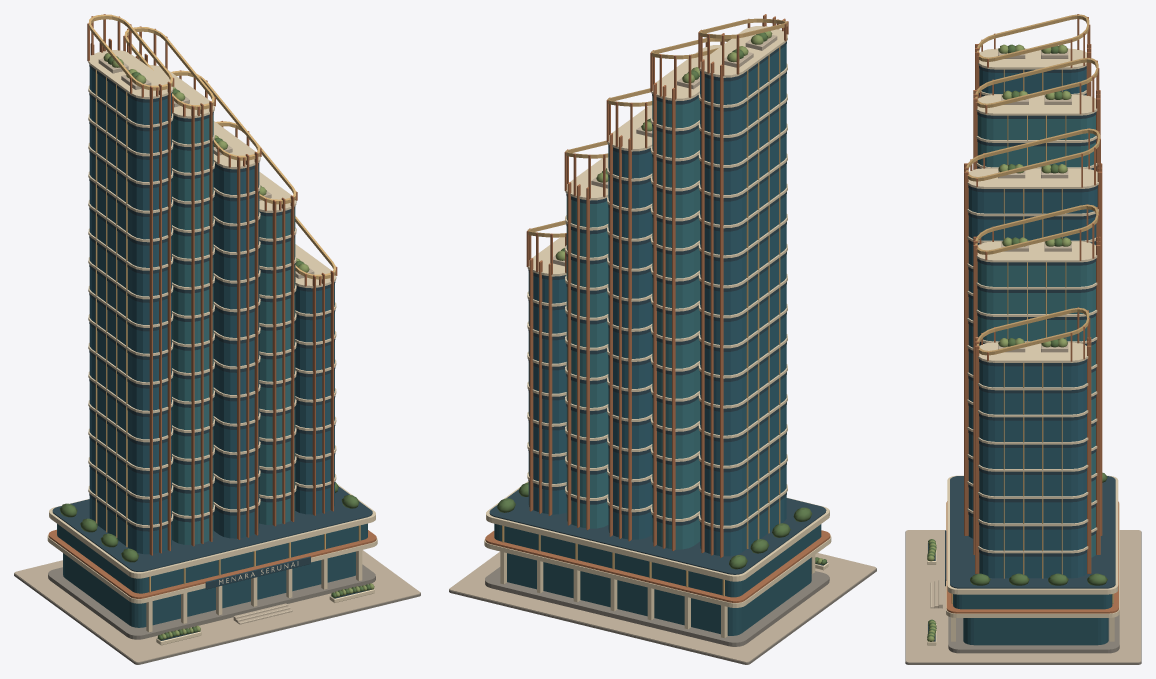
3 renders of one model, left to right at view 1: azimuth 30°, elevation 25°; view 2: azimuth 150°, elevation 25°; view 3: azimuth 270°, elevation 25°, orthographic. The views are drawn at different scales.
Visible parts, largest first — view 1: Reed Office Bays, Arcaded Banking Podium, Copper Sun Blades, Public Forecourt, Open Diadems; view 2: Reed Office Bays, Arcaded Banking Podium, Copper Sun Blades, Public Forecourt, Open Diadems; view 3: Reed Office Bays, Arcaded Banking Podium, Copper Sun Blades, Open Diadems, Public Forecourt.
Part boxes in pixels (left/top/right/bottom): Reed Office Bays: left=88, top=50, right=336, bottom=554; Arcaded Banking Podium: left=47, top=482, right=377, bottom=639; Copper Sun Blades: left=90, top=38, right=333, bottom=555; Public Forecourt: left=14, top=550, right=420, bottom=664; Open Diadems: left=87, top=14, right=337, bottom=286; Reed Office Bays: left=527, top=26, right=787, bottom=556; Arcaded Banking Podium: left=484, top=481, right=831, bottom=646; Copper Sun Blades: left=529, top=14, right=785, bottom=557; Public Forecourt: left=449, top=551, right=876, bottom=664; Open Diadems: left=526, top=18, right=788, bottom=274; Reed Office Bays: left=967, top=48, right=1098, bottom=578; Arcaded Banking Podium: left=945, top=472, right=1119, bottom=653; Copper Sun Blades: left=964, top=44, right=1102, bottom=578; Open Diadems: left=966, top=14, right=1100, bottom=361; Public Forecourt: left=905, top=530, right=1141, bottom=664.
Bounding box in the file's own units: 33.8 × 63.97 × 25.4.
